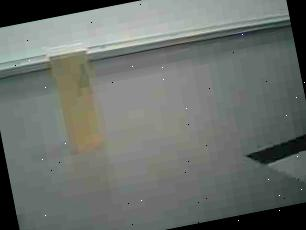Bottle A: (41, 35, 115, 162)
